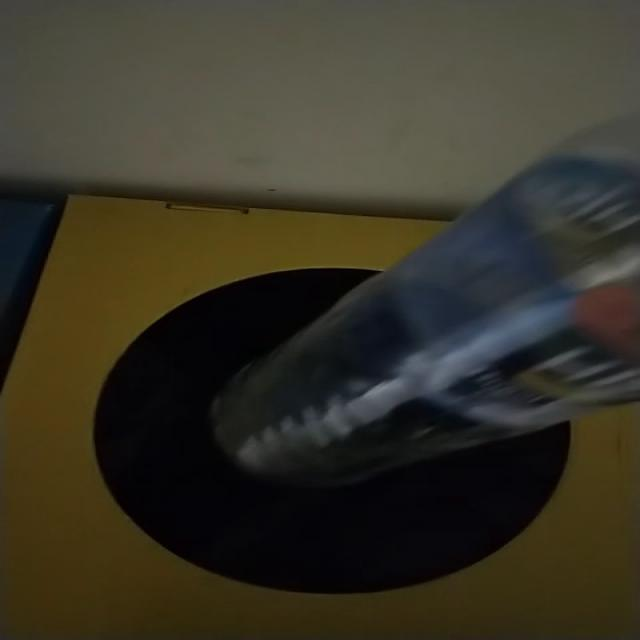plastic: (212, 123, 640, 487)
